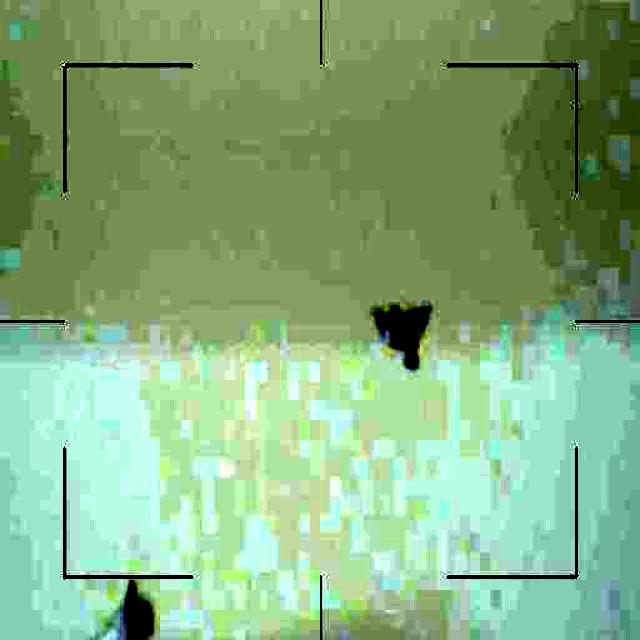bird: (372, 295, 436, 364)
